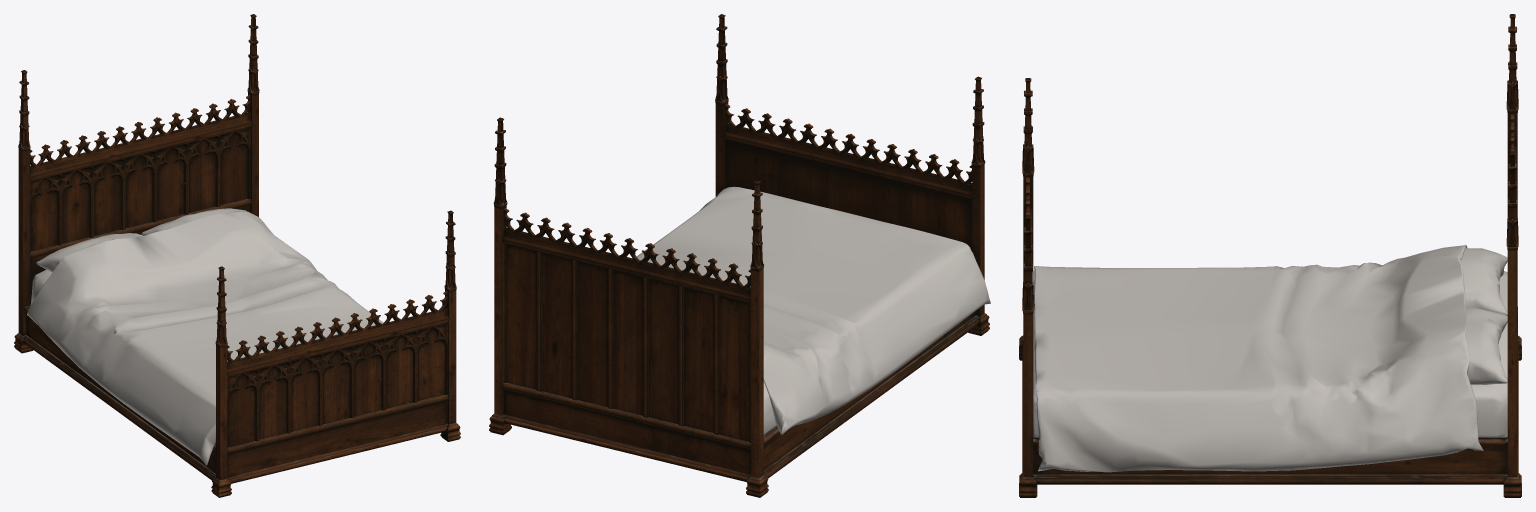
File: GothicBed.fbx
The picture shows the model from 3 angles, left to right: view 1: azimuth 30°, elevation 25°; view 2: azimuth 150°, elevation 25°; view 3: azimuth 270°, elevation 25°; orthographic projection. The views are drawn at different scales.
Visible parts, largest first — view 1: GothicBed_01_4k_LOD0; view 2: GothicBed_01_4k_LOD0; view 3: GothicBed_01_4k_LOD0.
Boxes of the visible parts, x1=… form: GothicBed_01_4k_LOD0: x1=14, y1=14, x2=460, y2=497; GothicBed_01_4k_LOD0: x1=489, y1=14, x2=990, y2=497; GothicBed_01_4k_LOD0: x1=1019, y1=14, x2=1521, y2=497.
Size of the model in its own units: 149 by 153 by 204.
